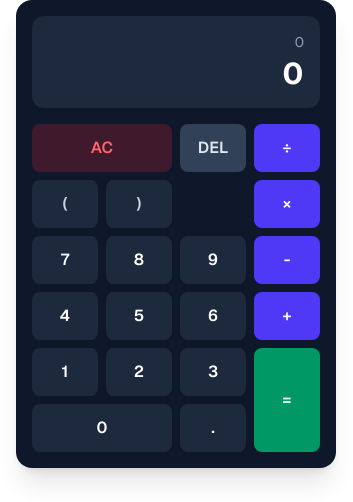
Scenario: handleClear and handleDelete › resets the display to the "0" fallback and clears result/error state when AC is clicked
Click the button "7" at (65, 260), box [32,236,98,284]
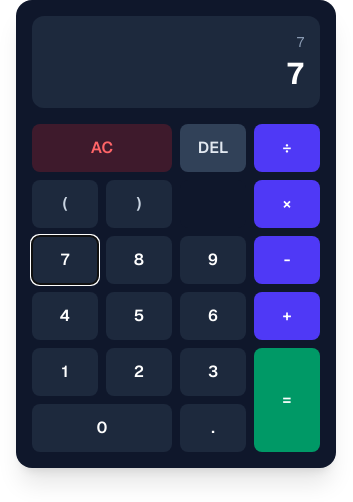
Click the button "÷" at (287, 148), box [254,124,320,172]
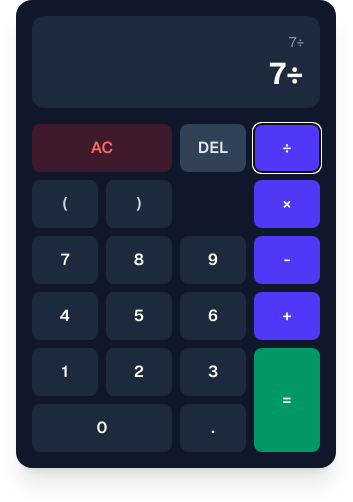
Click the button "0" at (102, 428), box [32,404,172,452]
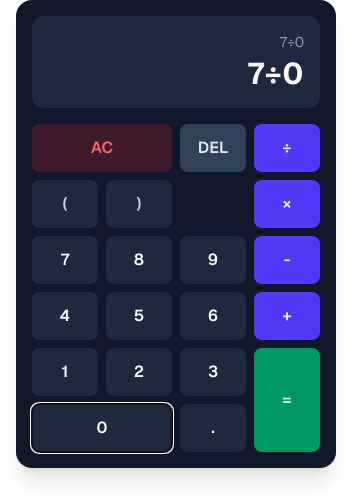
Click the button "=" at (287, 400), box [254,348,320,452]
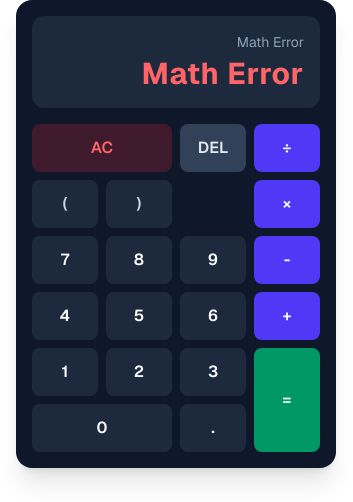
Expected: the 2nd text "Math Error" is shown, [142,56,304,92]
Click the button "AC" at (102, 148), box [32,124,172,172]
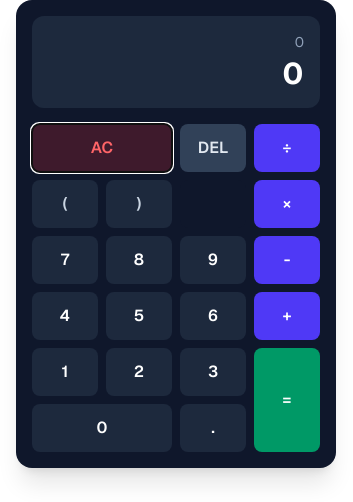
Expected: the text "Math Error" is gone
